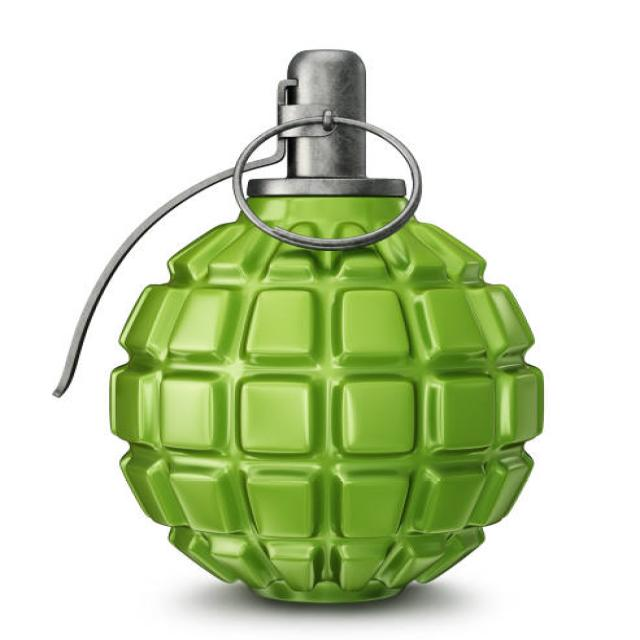grenade: (46, 37, 545, 611)
